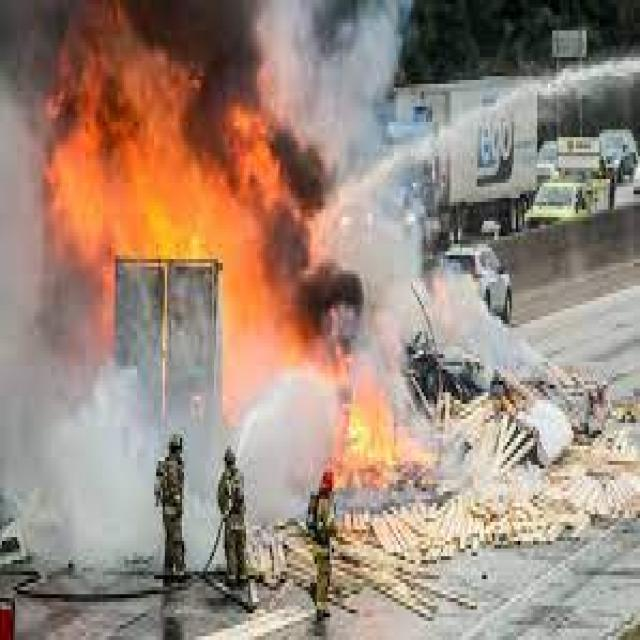fire: (2, 4, 323, 259), (218, 221, 362, 404), (332, 381, 400, 488)
smoke: (259, 4, 449, 381), (2, 256, 159, 572)
